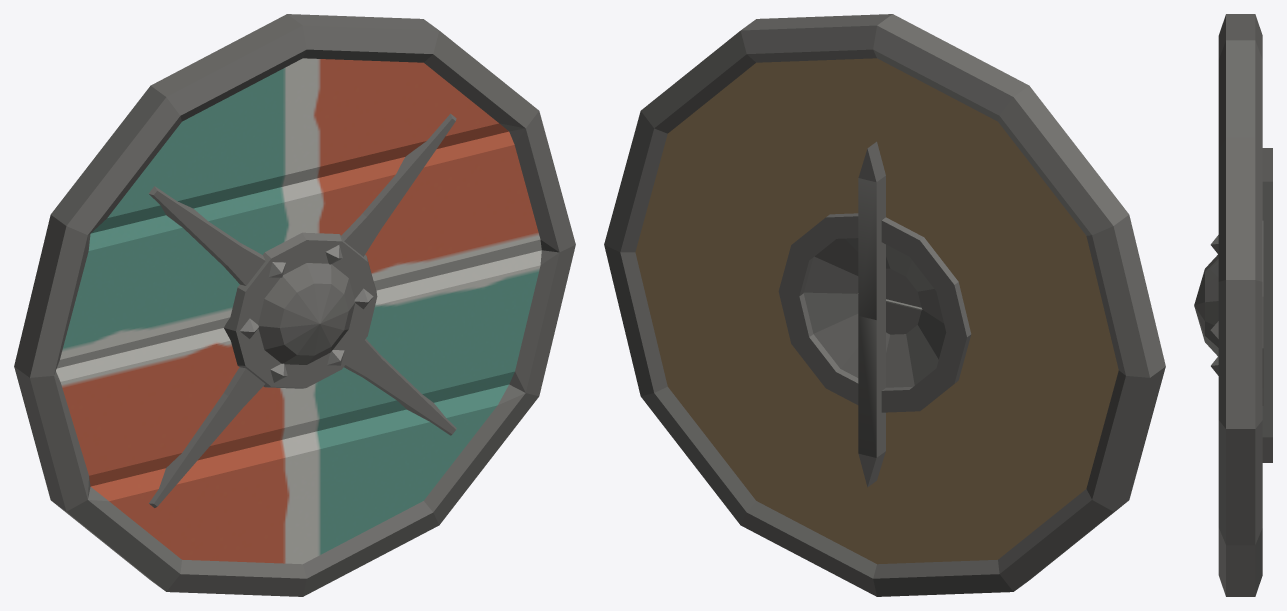
File: SM_pwe_slavic_shield_03k.fbx
The picture shows the model from 3 angles, left to right: view 1: azimuth 30°, elevation 25°; view 2: azimuth 150°, elevation 25°; view 3: azimuth 270°, elevation 25°; orthographic projection. The views are drawn at different scales.
Parts seen in each view (by area): view 1: SM_pwe_slavic_shield_03k; view 2: SM_pwe_slavic_shield_03k; view 3: SM_pwe_slavic_shield_03k.
Boxes of the visible parts, left/top/right/bottom form: SM_pwe_slavic_shield_03k: left=14, top=14, right=575, bottom=596; SM_pwe_slavic_shield_03k: left=604, top=14, right=1165, bottom=596; SM_pwe_slavic_shield_03k: left=1194, top=14, right=1272, bottom=596.
Bounding box in the file's own units: 70.52 × 70.52 × 9.5.
